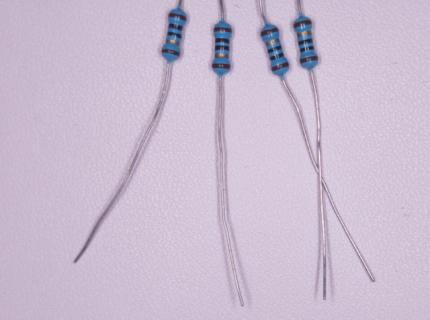Black band: (267, 45, 282, 54), (269, 52, 284, 61), (168, 24, 184, 32), (298, 38, 314, 46), (167, 31, 182, 39), (300, 45, 315, 53), (215, 38, 230, 44), (215, 45, 230, 51)
Brown band: (161, 48, 181, 58), (260, 27, 279, 37), (271, 62, 290, 72), (293, 19, 313, 28), (168, 13, 188, 21), (300, 56, 319, 63), (212, 63, 231, 70)
Gold band: (165, 38, 182, 47), (265, 38, 280, 47), (297, 30, 312, 37), (214, 53, 229, 59)
